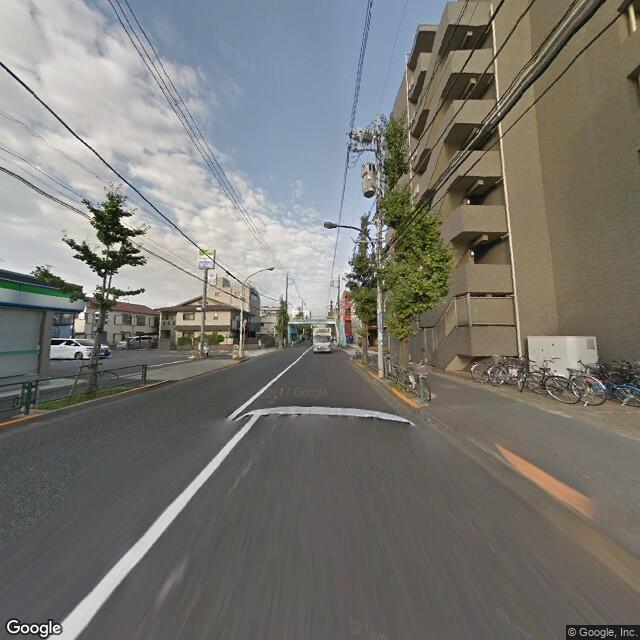family_mart: (1, 276, 85, 312), (195, 246, 215, 274)
